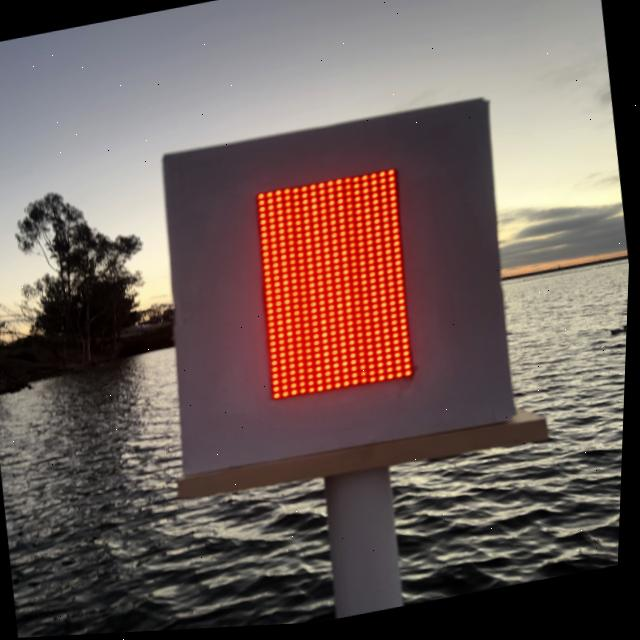led: (226, 140, 464, 443)
